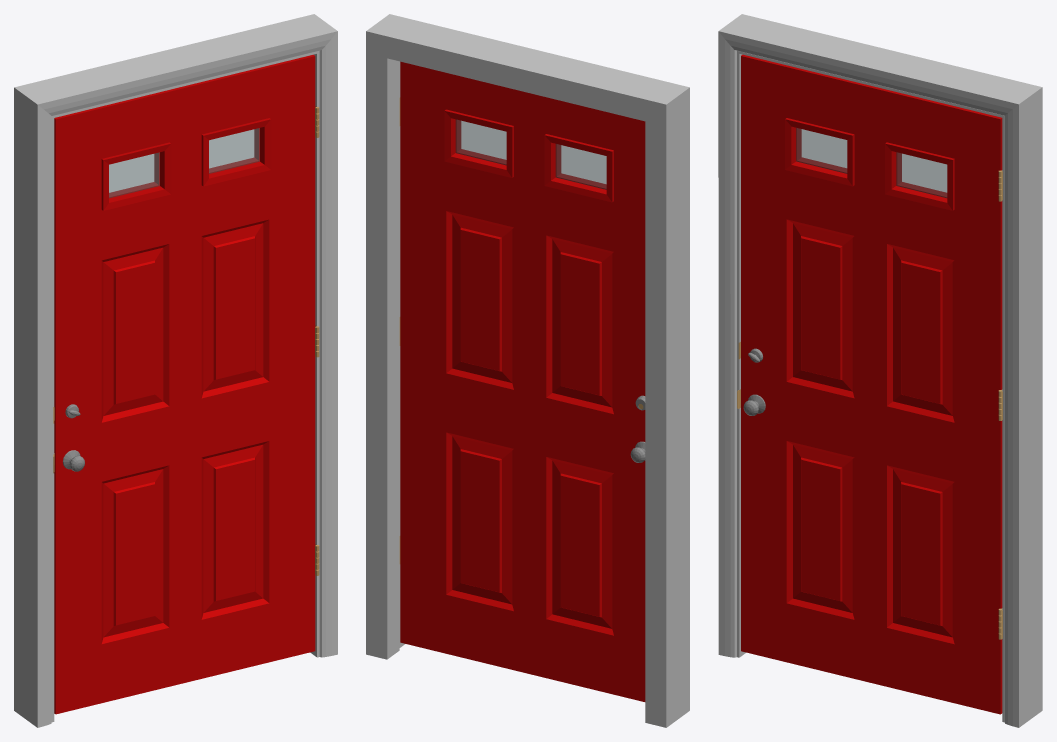
The model's file is exterior-door-01.obj.
3 renders of one model, left to right at view 1: azimuth 30°, elevation 25°; view 2: azimuth 150°, elevation 25°; view 3: azimuth 330°, elevation 25°, orthographic.
Visible parts, largest first — view 1: Exterior_door, Exterior_doorframe; view 2: Exterior_door, Exterior_doorframe; view 3: Exterior_door, Exterior_doorframe.
Boxes of the visible parts, <box> form: Exterior_door: <box>54,54,319,714</box>; Exterior_doorframe: <box>14,14,337,727</box>; Exterior_door: <box>400,61,645,701</box>; Exterior_doorframe: <box>366,14,689,727</box>; Exterior_door: <box>741,54,1002,714</box>; Exterior_doorframe: <box>718,14,1042,727</box>.
Bounding box in the file's own units: 6.94 × 13.77 × 1.19.
